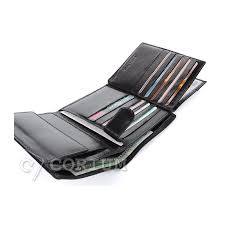monedero: (14, 42, 209, 180)
